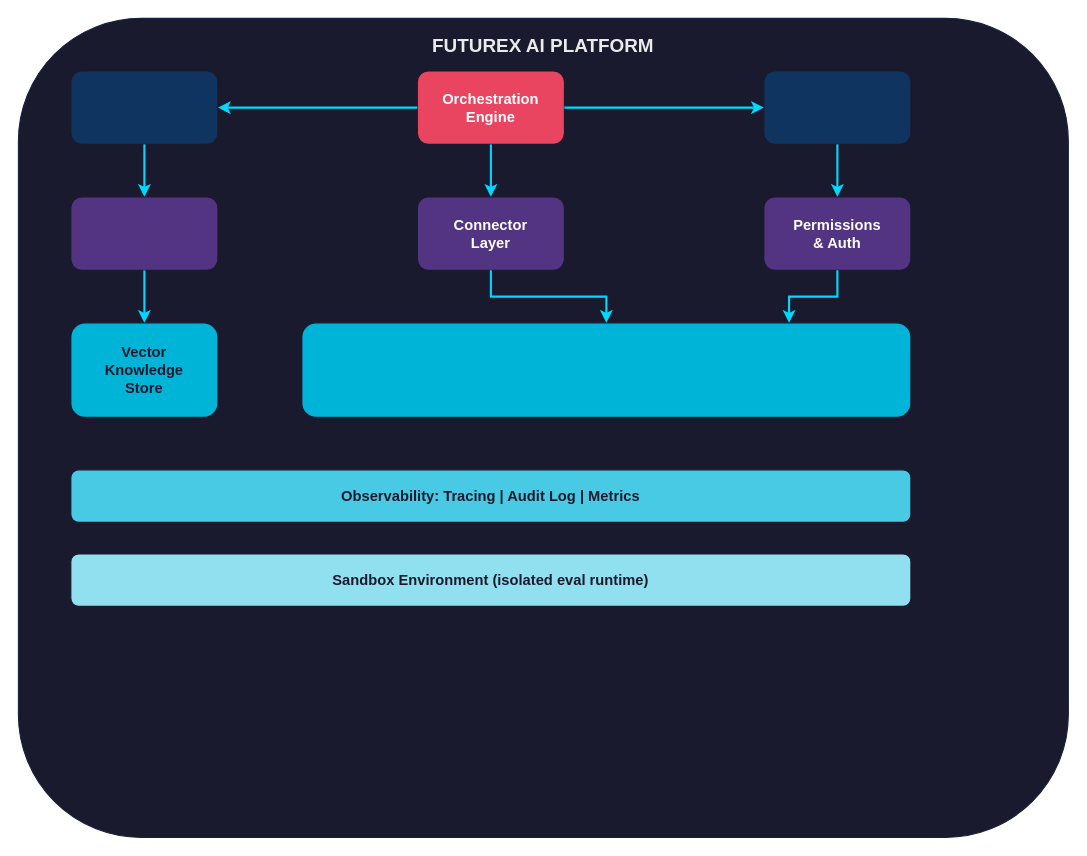
Image size: 1087x856. Some labels were removed from this diagram. Here are the shapes that lost their labels. From the top down, the centre of each, then its label:
the point at 144,107: Agent Registry
the point at 837,107: Control Plane API
the point at 144,233: Context Service
the point at 606,369: Tool Integrations Jira | Confluence | Git | Email Slack | CRM | Docs | HSM APIs
